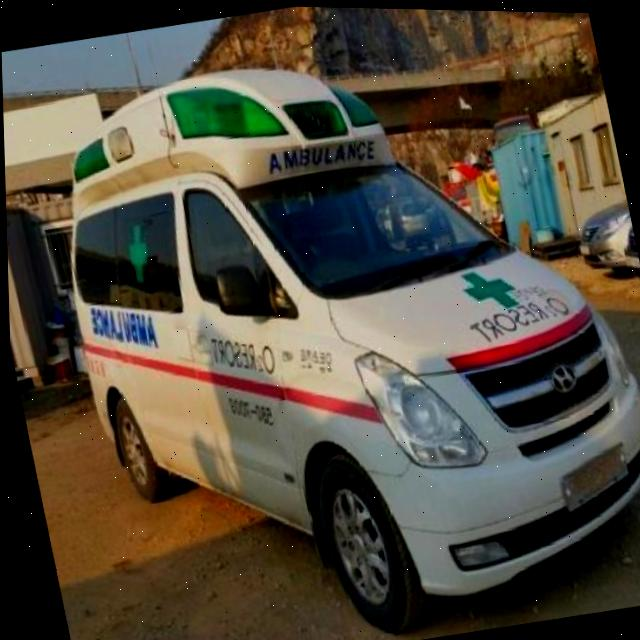emergency: (24, 3, 640, 640)
